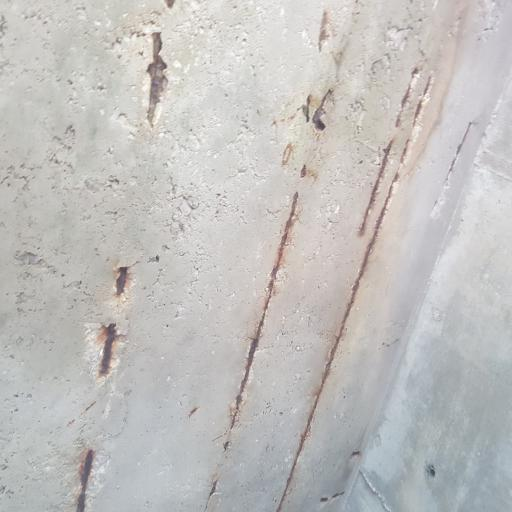exposed_rebar: (278, 76, 432, 509), (223, 192, 298, 451), (358, 139, 394, 236), (445, 121, 472, 187), (395, 64, 422, 128), (148, 34, 167, 124), (77, 450, 94, 511), (99, 324, 118, 377), (413, 75, 432, 125), (116, 267, 128, 297), (206, 478, 218, 508), (312, 107, 320, 130), (349, 452, 360, 458), (320, 496, 329, 503), (332, 492, 344, 497)
